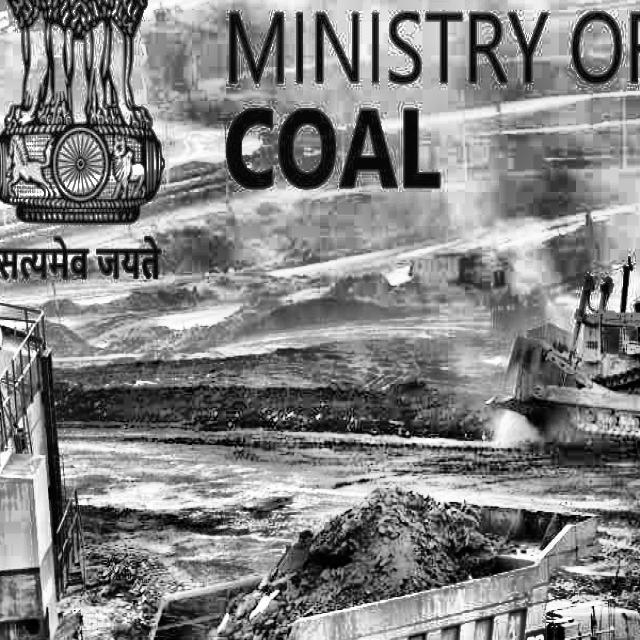buldozerpayloadergrader: (490, 259, 640, 485)
dump_truck: (144, 482, 640, 640)
excavator: (0, 11, 119, 639)
